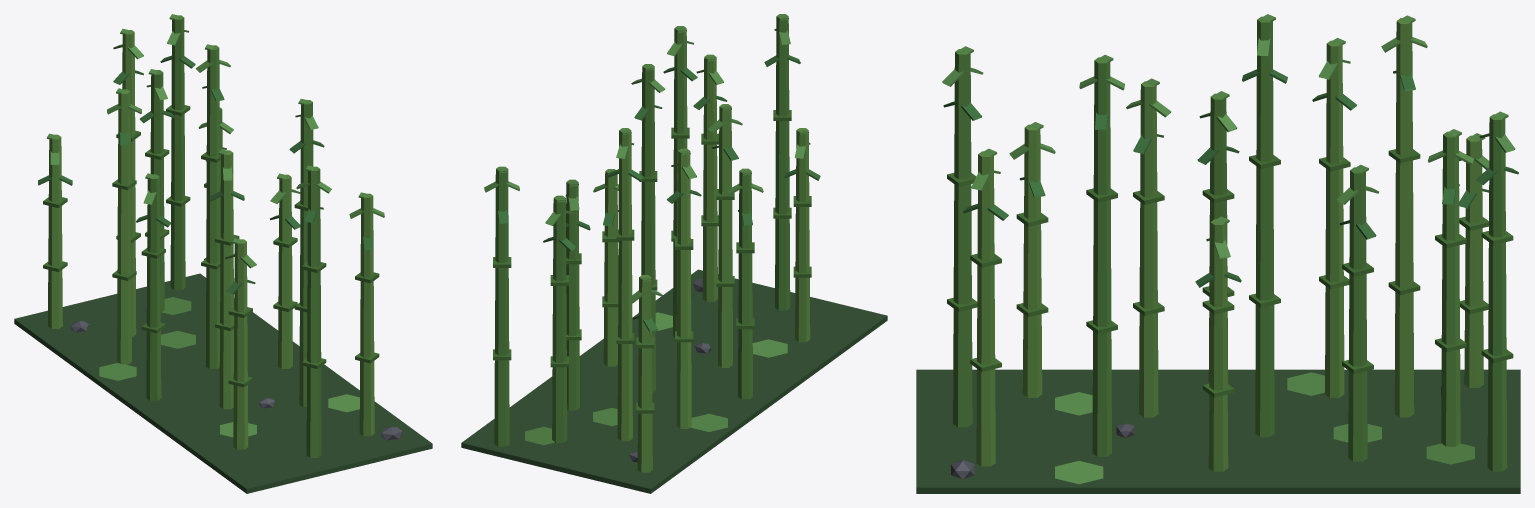
Rendered from Decor_NinjaDojo_Bamboo.fbx.
3 renders of one model, left to right at view 1: azimuth 30°, elevation 25°; view 2: azimuth 150°, elevation 25°; view 3: azimuth 270°, elevation 25°, orthographic. The views are drawn at different scales.
Visible parts, largest first — view 1: Bamboo_Body; view 2: Bamboo_Body; view 3: Bamboo_Body.
Boxes of the visible parts, box(x1,y1,x2,y2) form: Bamboo_Body: box(14, 14, 432, 493); Bamboo_Body: box(461, 14, 887, 493); Bamboo_Body: box(916, 14, 1520, 493).
Bounding box in the file's own units: 12 × 20 × 26.
